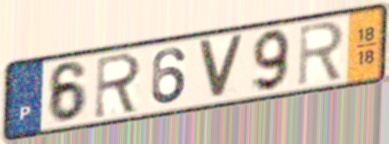6: (45, 58, 92, 126), (150, 47, 189, 107)
9: (249, 26, 292, 95)
R: (92, 50, 144, 122), (296, 19, 347, 90)
V: (195, 33, 247, 101)
